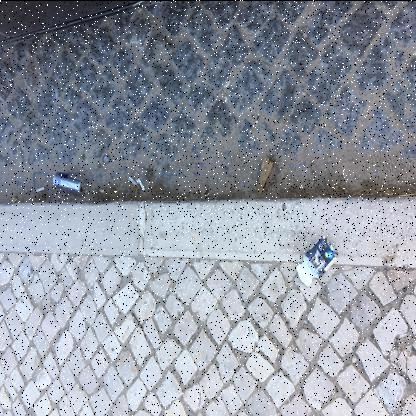cardboard: (296, 234, 338, 286)
metal: (52, 170, 89, 196)
